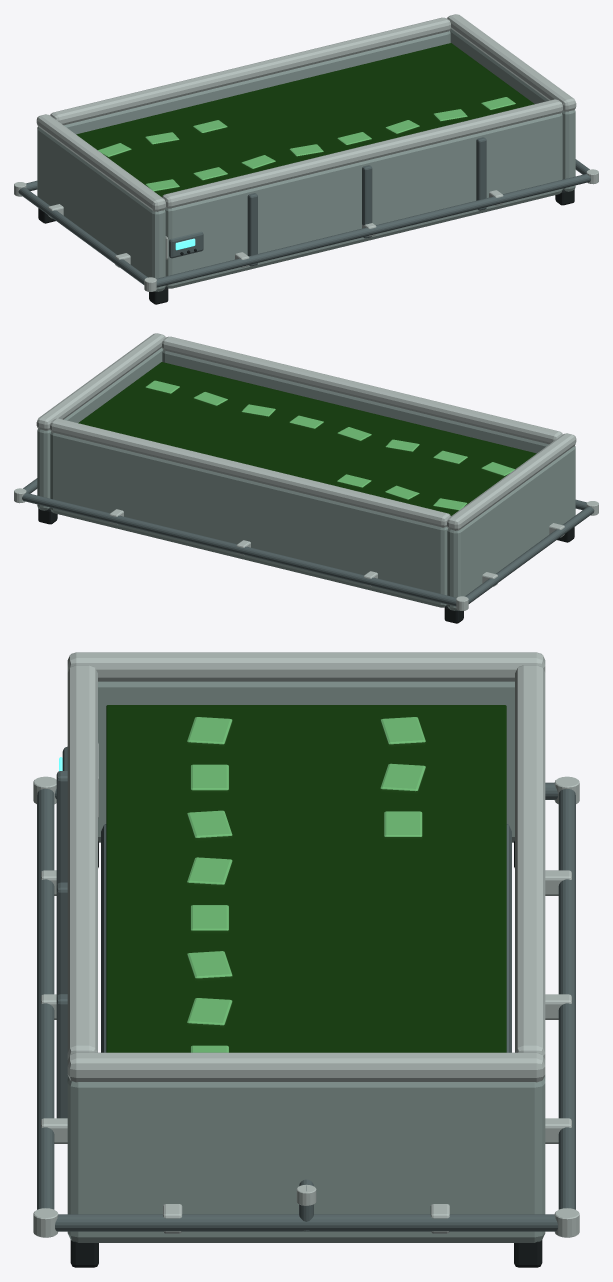
Rendered from Grand bac industriel à algues.glb.
The picture shows the model from 3 angles, top to bottom: view 1: azimuth 30°, elevation 25°; view 2: azimuth 150°, elevation 25°; view 3: azimuth 270°, elevation 25°; orthographic projection. The views are drawn at different scales.
Parts seen in each view (by area): view 1: 21_large_industrial_algae_vat_Water_Surface, 21_large_industrial_algae_vat_Vat_Wall_Front, 21_large_industrial_algae_vat_Vat_Wall_Left, 21_large_industrial_algae_vat_Reinforced_Rim_Front, 21_large_industrial_algae_vat_Reinforced_Rim_Rear, 21_large_industrial_algae_vat_Vat_Wall_Rear, 21_large_industrial_algae_vat_Perimeter_Front, 21_large_industrial_algae_vat_Reinforced_Rim_Left, 21_large_industrial_algae_vat_Reinforced_Rim_Right, 21_large_industrial_algae_vat_Vat_Wall_Right, 21_large_industrial_algae_vat_Perimeter_Left, 21_large_industrial_algae_vat_Front_Vertical_Brace_+1.22 (+3 smaller); view 2: 21_large_industrial_algae_vat_Vat_Wall_Rear, 21_large_industrial_algae_vat_Water_Surface, 21_large_industrial_algae_vat_Vat_Wall_Left, 21_large_industrial_algae_vat_Reinforced_Rim_Rear, 21_large_industrial_algae_vat_Reinforced_Rim_Front, 21_large_industrial_algae_vat_Vat_Wall_Front, 21_large_industrial_algae_vat_Perimeter_Rear, 21_large_industrial_algae_vat_Reinforced_Rim_Left, 21_large_industrial_algae_vat_Reinforced_Rim_Right, 21_large_industrial_algae_vat_Vat_Wall_Right, 21_large_industrial_algae_vat_Perimeter_Left; view 3: 21_large_industrial_algae_vat_Water_Surface, 21_large_industrial_algae_vat_Vat_Wall_Right, 21_large_industrial_algae_vat_Reinforced_Rim_Right, 21_large_industrial_algae_vat_Reinforced_Rim_Left, 21_large_industrial_algae_vat_Vat_Wall_Left, 21_large_industrial_algae_vat_Reinforced_Rim_Front, 21_large_industrial_algae_vat_Reinforced_Rim_Rear, 21_large_industrial_algae_vat_Perimeter_Right, 21_large_industrial_algae_vat_Perimeter_Front, 21_large_industrial_algae_vat_Perimeter_Rear, 21_large_industrial_algae_vat_Inset_Floor, 21_large_industrial_algae_vat_Front_Vertical_Brace_+1.22 (+12 smaller).
Part boxes in pixels (x1=…): 21_large_industrial_algae_vat_Water_Surface: x1=76, y1=43, x2=534, y2=196; 21_large_industrial_algae_vat_Vat_Wall_Front: x1=165, y1=113, x2=562, y2=288; 21_large_industrial_algae_vat_Vat_Wall_Left: x1=37, y1=127, x2=165, y2=291; 21_large_industrial_algae_vat_Reinforced_Rim_Front: x1=162, y1=99, x2=562, y2=208; 21_large_industrial_algae_vat_Reinforced_Rim_Rear: x1=50, y1=17, x2=450, y2=125; 21_large_industrial_algae_vat_Vat_Wall_Rear: x1=64, y1=31, x2=450, y2=134; 21_large_industrial_algae_vat_Perimeter_Front: x1=156, y1=174, x2=590, y2=287; 21_large_industrial_algae_vat_Reinforced_Rim_Left: x1=36, y1=114, x2=165, y2=211; 21_large_industrial_algae_vat_Reinforced_Rim_Right: x1=447, y1=14, x2=576, y2=111; 21_large_industrial_algae_vat_Vat_Wall_Right: x1=450, y1=29, x2=575, y2=191; 21_large_industrial_algae_vat_Perimeter_Left: x1=18, y1=187, x2=147, y2=284; 21_large_industrial_algae_vat_Front_Vertical_Brace_+1.22: x1=476, y1=137, x2=486, y2=210; 21_large_industrial_algae_vat_Vat_Wall_Rear: x1=50, y1=432, x2=447, y2=607; 21_large_industrial_algae_vat_Water_Surface: x1=78, y1=362, x2=536, y2=515; 21_large_industrial_algae_vat_Vat_Wall_Left: x1=447, y1=446, x2=575, y2=610; 21_large_industrial_algae_vat_Reinforced_Rim_Rear: x1=50, y1=418, x2=450, y2=527; 21_large_industrial_algae_vat_Reinforced_Rim_Front: x1=162, y1=336, x2=562, y2=444; 21_large_industrial_algae_vat_Vat_Wall_Front: x1=162, y1=350, x2=548, y2=453; 21_large_industrial_algae_vat_Perimeter_Rear: x1=22, y1=493, x2=456, y2=606; 21_large_industrial_algae_vat_Reinforced_Rim_Left: x1=447, y1=433, x2=576, y2=530; 21_large_industrial_algae_vat_Reinforced_Rim_Right: x1=36, y1=333, x2=165, y2=430; 21_large_industrial_algae_vat_Vat_Wall_Right: x1=37, y1=348, x2=162, y2=510; 21_large_industrial_algae_vat_Perimeter_Left: x1=465, y1=506, x2=594, y2=603; 21_large_industrial_algae_vat_Water_Surface: x1=106, y1=705, x2=506, y2=1052; 21_large_industrial_algae_vat_Vat_Wall_Right: x1=67, y1=1077, x2=545, y2=1242; 21_large_industrial_algae_vat_Reinforced_Rim_Right: x1=67, y1=1052, x2=545, y2=1082; 21_large_industrial_algae_vat_Reinforced_Rim_Left: x1=67, y1=652, x2=545, y2=681; 21_large_industrial_algae_vat_Vat_Wall_Left: x1=98, y1=681, x2=514, y2=842; 21_large_industrial_algae_vat_Reinforced_Rim_Front: x1=67, y1=665, x2=97, y2=1059; 21_large_industrial_algae_vat_Reinforced_Rim_Rear: x1=515, y1=665, x2=545, y2=1059; 21_large_industrial_algae_vat_Perimeter_Right: x1=55, y1=1214, x2=557, y2=1231; 21_large_industrial_algae_vat_Perimeter_Front: x1=37, y1=789, x2=54, y2=1209; 21_large_industrial_algae_vat_Perimeter_Rear: x1=558, y1=789, x2=575, y2=1209; 21_large_industrial_algae_vat_Inset_Floor: x1=101, y1=824, x2=511, y2=1052; 21_large_industrial_algae_vat_Front_Vertical_Brace_+1.22: x1=56, y1=994, x2=67, y2=1118.
Size of the model in its own units: 4.82 by 1.06 by 2.52.
